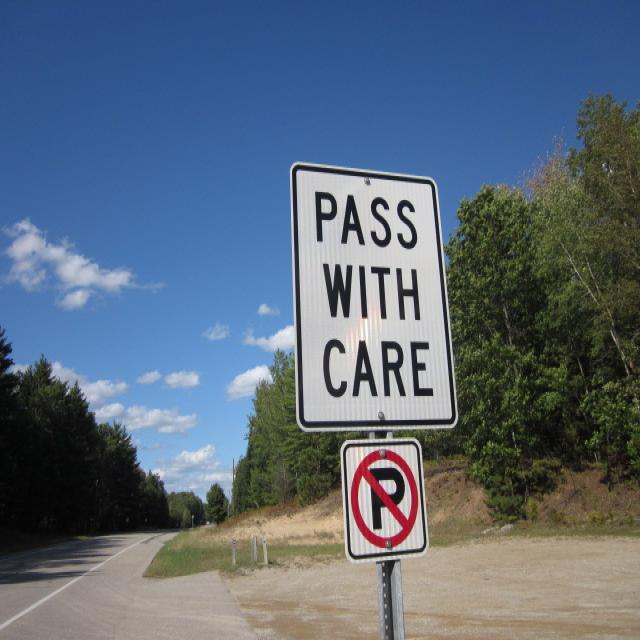regulatory: (295, 163, 460, 430), (342, 438, 428, 560)
